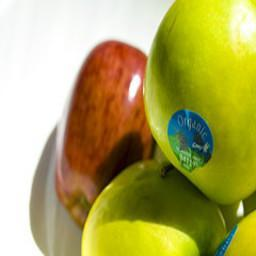apple: (144, 1, 256, 204), (56, 40, 151, 230)
